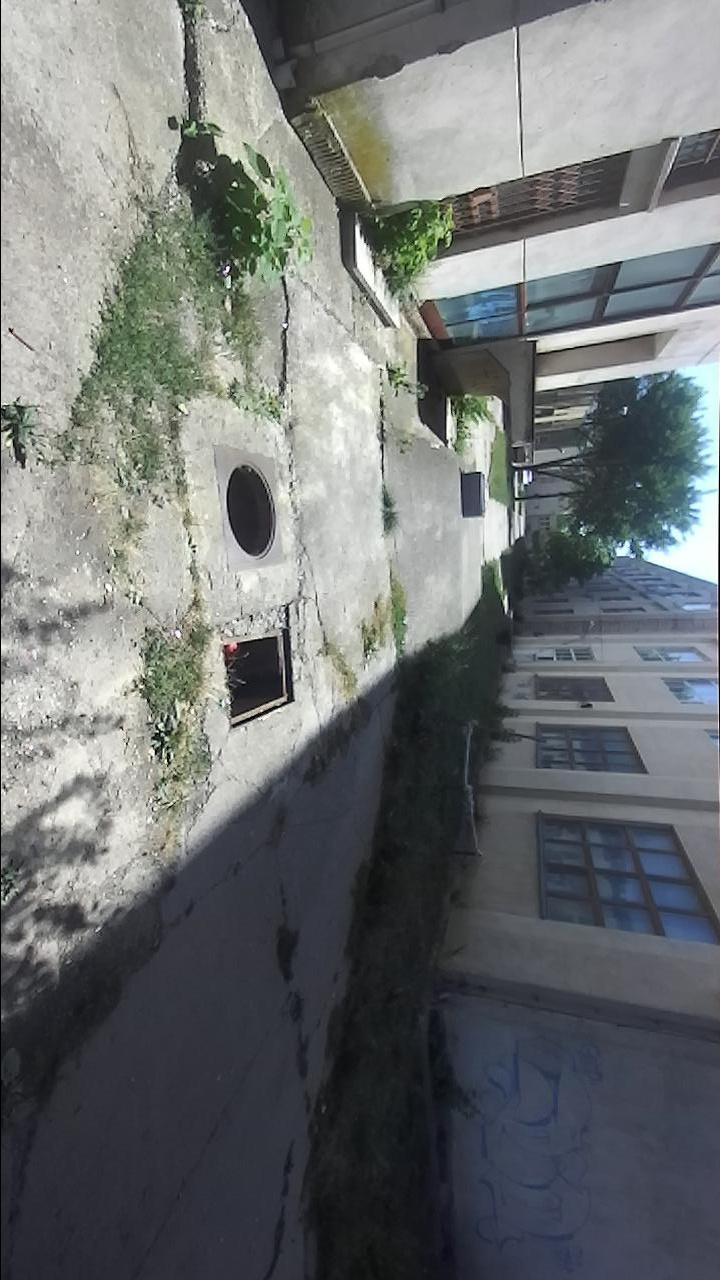drain: (220, 623, 300, 736), (225, 454, 277, 565)
